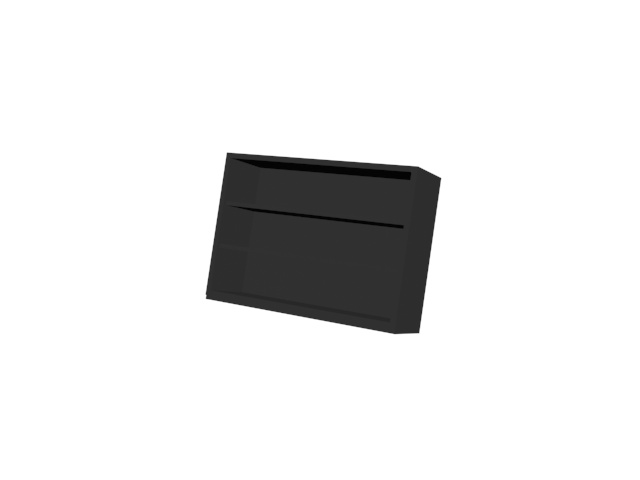bookcase: (201, 153, 448, 336)
